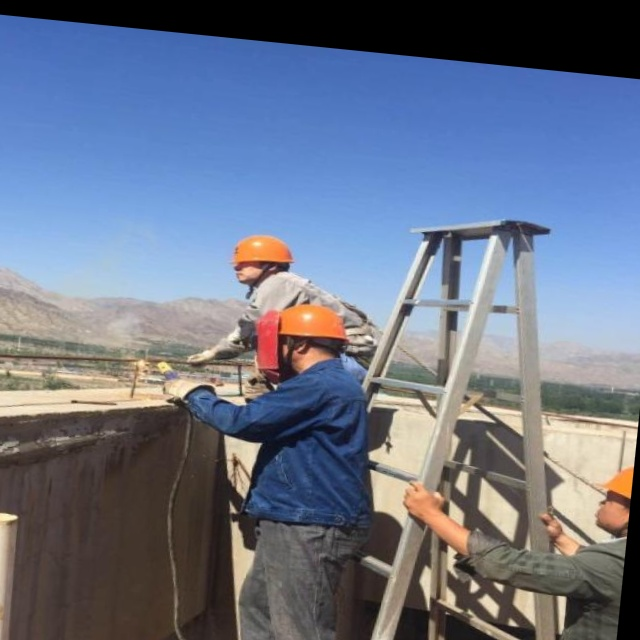Con_Casco: (229, 235, 298, 284)
